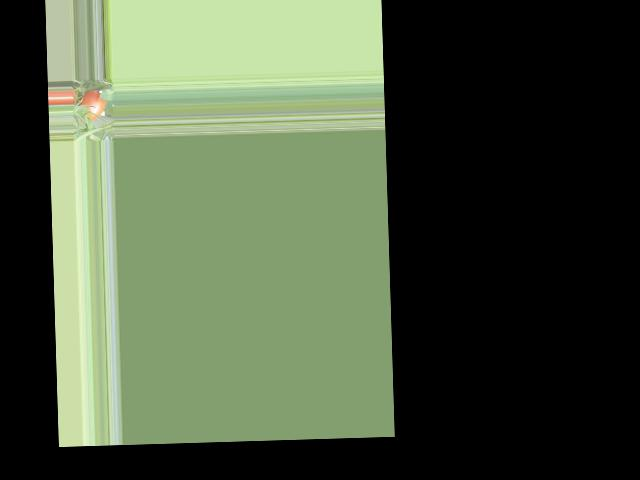tomato: (79, 89, 106, 120)
